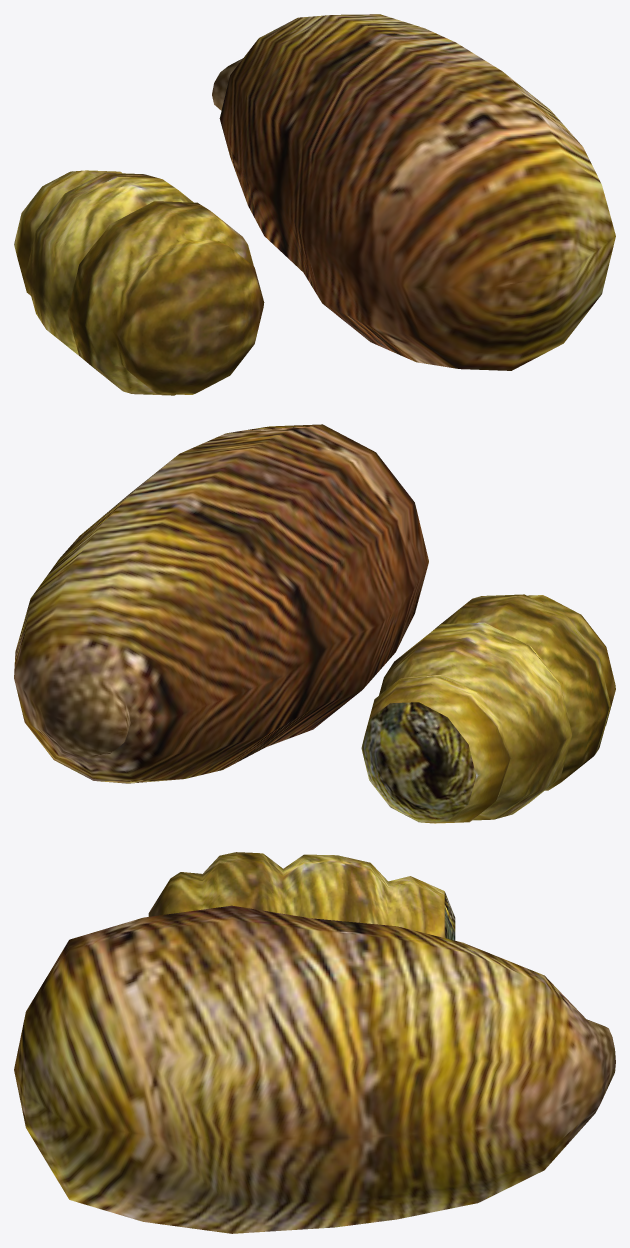
Rendered from tiepishihu.FBX.
The picture shows the model from 3 angles, top to bottom: view 1: azimuth 30°, elevation 25°; view 2: azimuth 150°, elevation 25°; view 3: azimuth 270°, elevation 25°; orthographic projection. The views are drawn at different scales.
Parts seen in each view (by area): view 1: Cylinder002, Cylinder001; view 2: Cylinder002, Cylinder001; view 3: Cylinder002, Cylinder001.
Part boxes in pixels (x1,y1,x2,y2): Cylinder002: [212, 14, 615, 370]; Cylinder001: [14, 170, 264, 395]; Cylinder002: [14, 424, 428, 783]; Cylinder001: [361, 594, 615, 823]; Cylinder002: [14, 905, 615, 1233]; Cylinder001: [148, 852, 455, 940].
Bounding box in the file's own units: 41.23 × 22.3 × 40.75.
